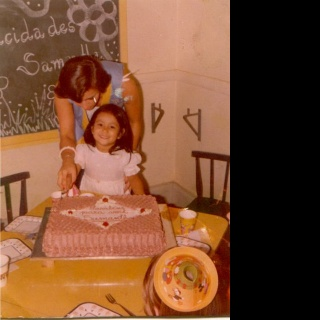without_mask: (92, 110, 121, 147)
